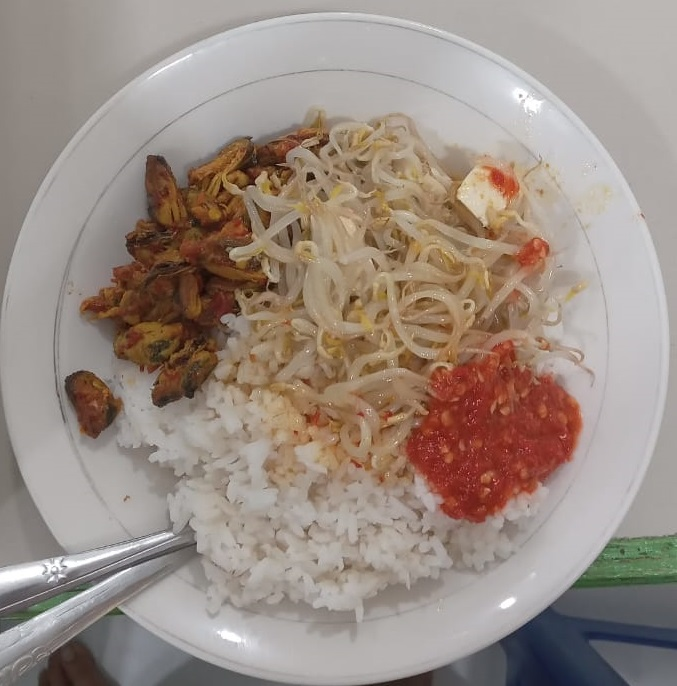Kerang: (84, 132, 231, 379)
Nasi: (93, 450, 401, 630)
Sambel: (406, 364, 596, 502)
Tumis_toge: (256, 140, 593, 359)
